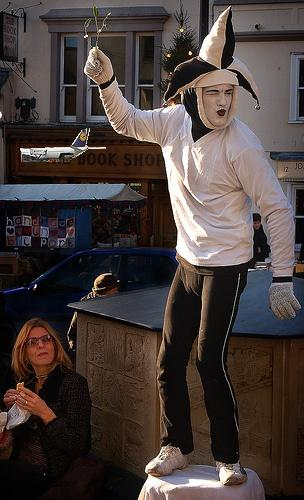tampered: (21, 129, 106, 162)
